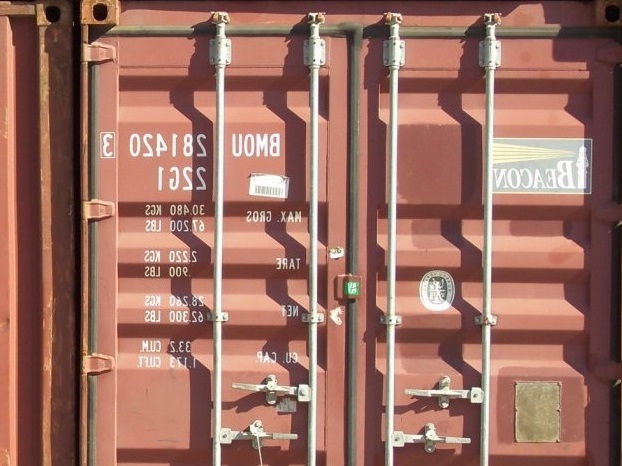container_door: (81, 1, 617, 461)
